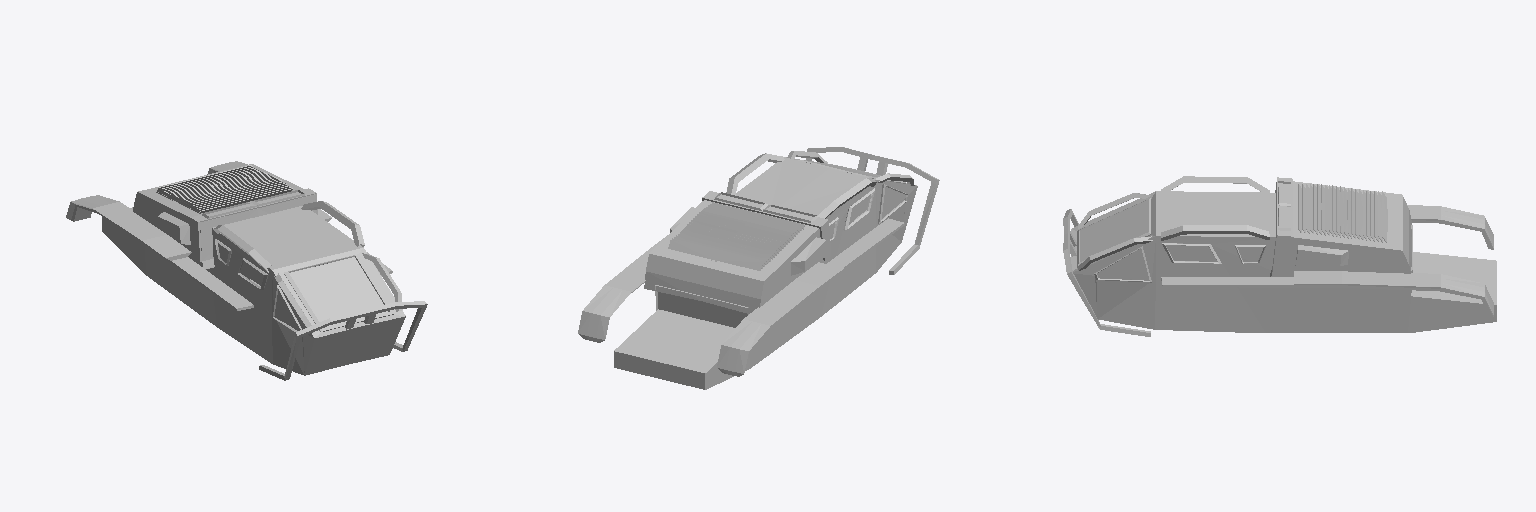
The model's file is currentfinalripsaw.obj.
3 views of the same model, side by side, from view 1: azimuth 30°, elevation 25°; view 2: azimuth 150°, elevation 25°; view 3: azimuth 270°, elevation 25° (orthographic).
Visible parts, largest first — view 1: default; view 2: default; view 3: default.
Part boxes in pixels (left/top/right/bottom): default: left=66, top=161, right=427, bottom=380; default: left=578, top=147, right=939, bottom=389; default: left=1063, top=176, right=1496, bottom=336.
Size of the model in its own units: 2.9 by 1.83 by 6.54.